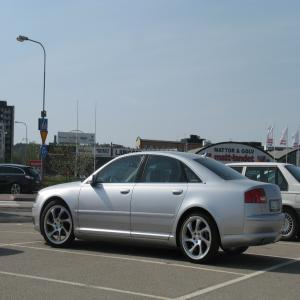Vehicle-registration-plate: (271, 202, 282, 212)
